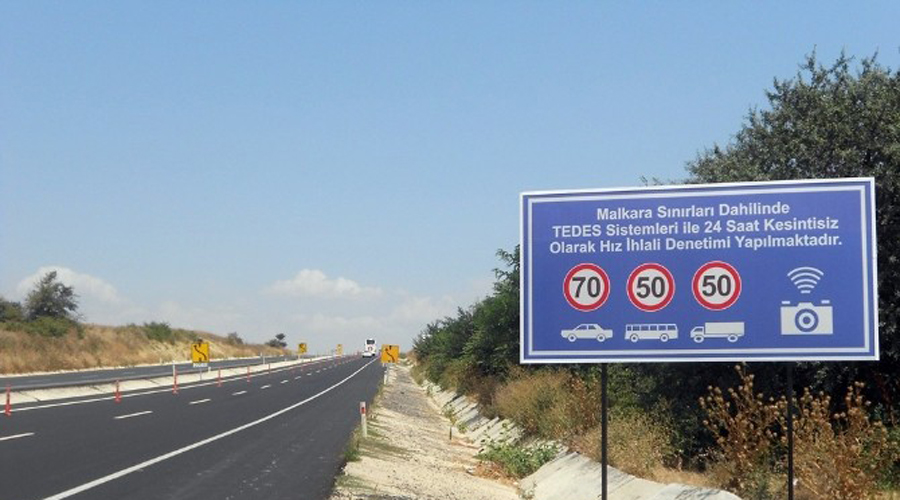50 Km Hiz Siniri: (688, 257, 745, 314), (627, 264, 678, 313)
70 Km Hiz Siniri: (556, 258, 613, 313)
